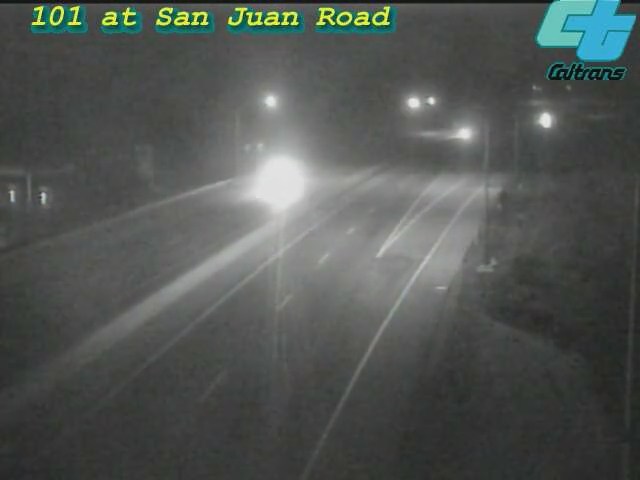vehicle: (236, 141, 316, 221), (440, 109, 490, 159), (519, 95, 569, 145)
